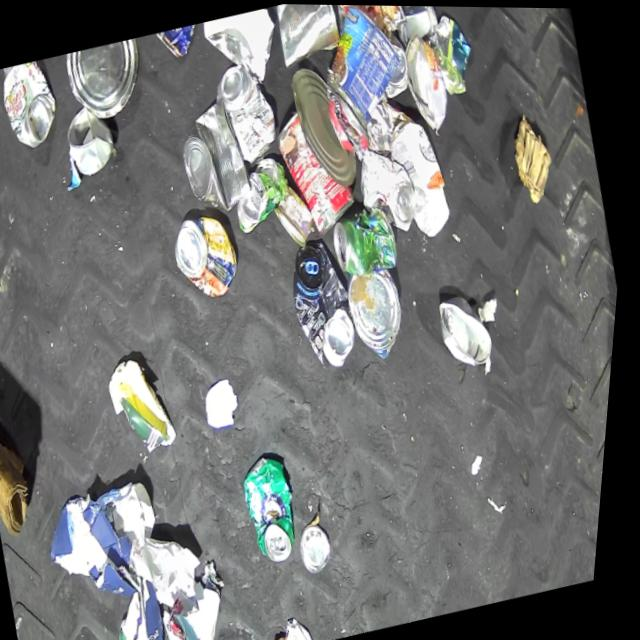can: (304, 4, 416, 135), (267, 99, 371, 240), (281, 236, 375, 375), (169, 92, 265, 219), (282, 58, 370, 193), (206, 57, 290, 168), (239, 451, 317, 568), (58, 36, 154, 128), (167, 208, 252, 305), (350, 138, 428, 240), (343, 264, 420, 364), (394, 27, 459, 134), (0, 57, 69, 155), (327, 201, 406, 281), (436, 289, 506, 375), (227, 153, 300, 235), (59, 99, 125, 177), (270, 3, 347, 69), (269, 180, 325, 250), (153, 19, 218, 66), (373, 30, 417, 98), (328, 4, 408, 41), (302, 519, 347, 575), (387, 5, 442, 47)
